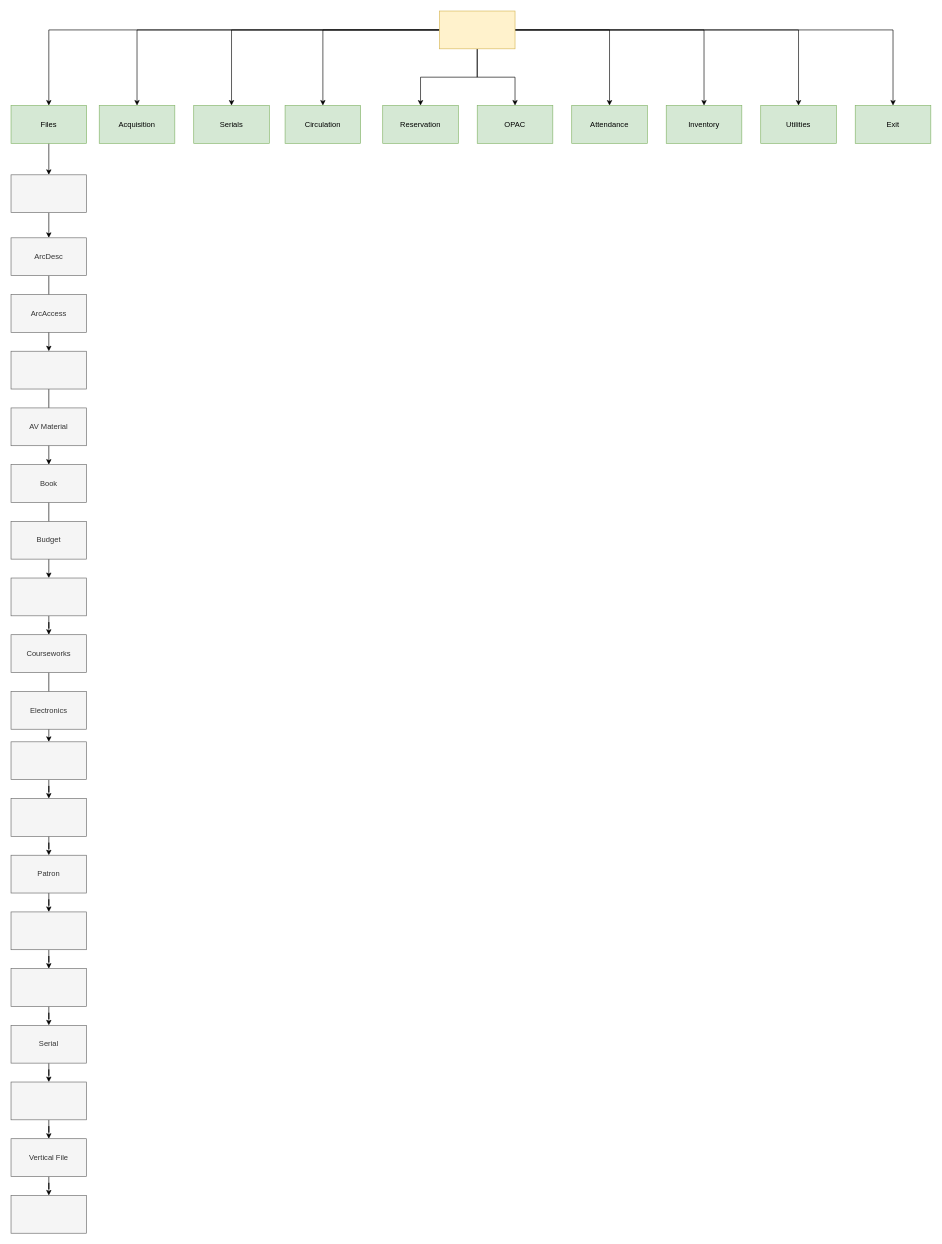
Some shapes in this 942 by 1244 pixel diagram are drawn without their labels. The box of each missing label's shape, as (x1, y1, x2, y2) in pixels:
Analytics: (10, 174, 87, 213)
Audio: (10, 351, 87, 389)
Cases: (10, 577, 87, 616)
Equipment: (10, 741, 87, 780)
Home Page: (439, 10, 515, 49)
Museum: (10, 798, 87, 836)
Periodical: (10, 911, 87, 950)
Referral: (10, 968, 87, 1006)
Thesaurus: (10, 1081, 87, 1120)
Video: (10, 1195, 87, 1233)
